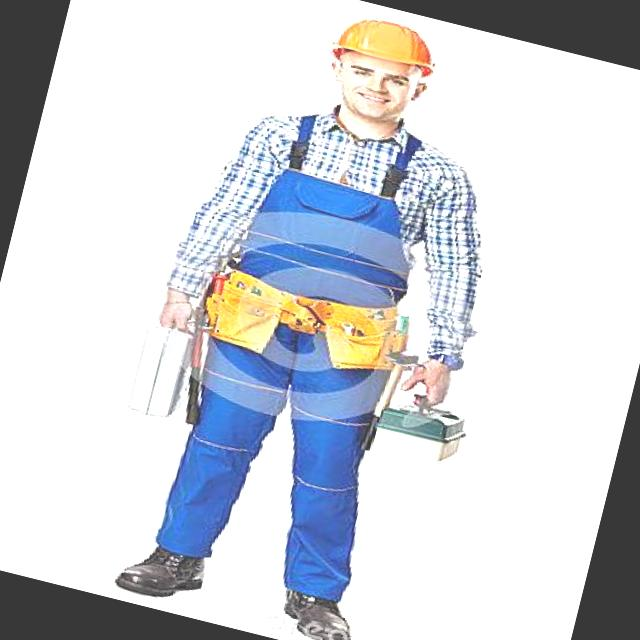helmet: (316, 6, 458, 84)
no-goggles: (310, 40, 448, 110)
no-vest: (165, 94, 508, 341)
